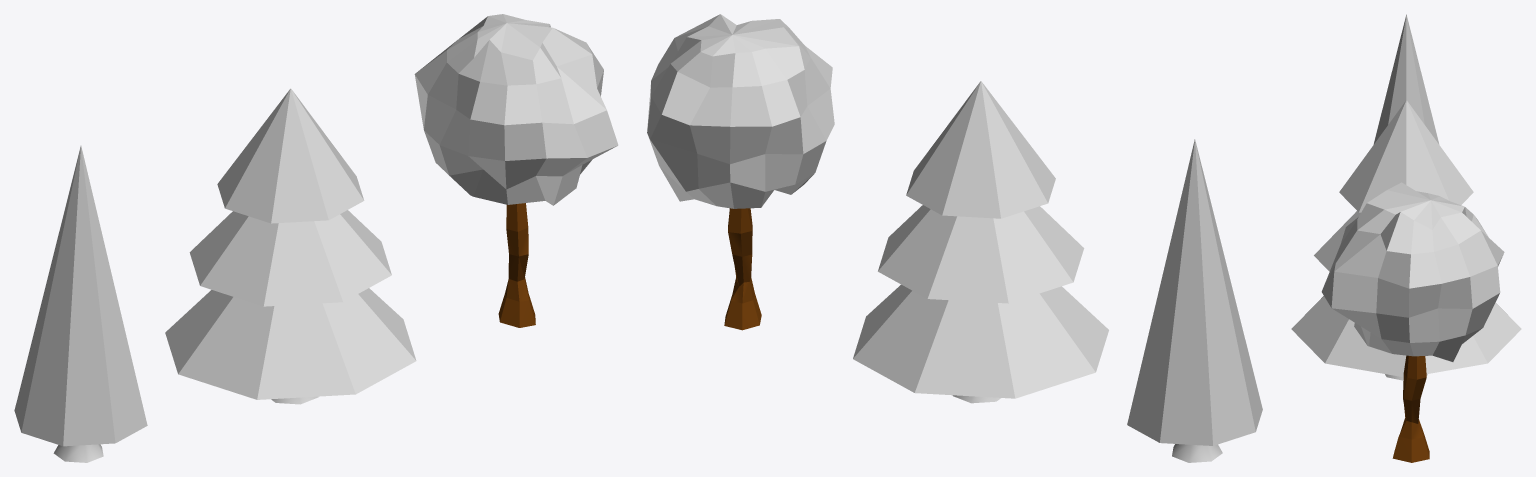
Rendered from Arboles.FBX.
3 views of the same model, side by side, from view 1: azimuth 30°, elevation 25°; view 2: azimuth 150°, elevation 25°; view 3: azimuth 270°, elevation 25° (orthographic). The views are drawn at different scales.
Visible parts, largest first — view 1: Sphere005, Sphere004, Sphere003, Sphere002, Sphere001, Mesh267, Cylinder002; view 2: Sphere005, Sphere004, Sphere003, Sphere002, Sphere001, Mesh267, Cylinder002; view 3: Sphere005, Sphere001, Sphere003, Sphere004, Mesh267, Sphere002.
Part boxes in pixels (x1=…): Sphere005: x1=414, y1=14, x2=618, y2=205; Sphere004: x1=14, y1=145, x2=147, y2=446; Sphere003: x1=165, y1=288, x2=416, y2=399; Sphere002: x1=189, y1=210, x2=391, y2=306; Sphere001: x1=217, y1=88, x2=364, y2=223; Mesh267: x1=498, y1=203, x2=535, y2=327; Cylinder002: x1=53, y1=444, x2=103, y2=462; Sphere005: x1=647, y1=14, x2=834, y2=208; Sphere004: x1=1127, y1=139, x2=1262, y2=445; Sphere003: x1=853, y1=284, x2=1108, y2=398; Sphere002: x1=878, y1=205, x2=1084, y2=303; Sphere001: x1=906, y1=81, x2=1055, y2=218; Mesh267: x1=724, y1=208, x2=761, y2=330; Cylinder002: x1=1172, y1=444, x2=1222, y2=462; Sphere005: x1=1321, y1=182, x2=1504, y2=361; Sphere001: x1=1339, y1=100, x2=1473, y2=212; Sphere003: x1=1291, y1=296, x2=1521, y2=377; Sphere004: x1=1373, y1=14, x2=1439, y2=144; Mesh267: x1=1392, y1=355, x2=1429, y2=462; Sphere002: x1=1314, y1=211, x2=1360, y2=271.
Size of the model in its own units: 3526 by 1819 by 1360.
